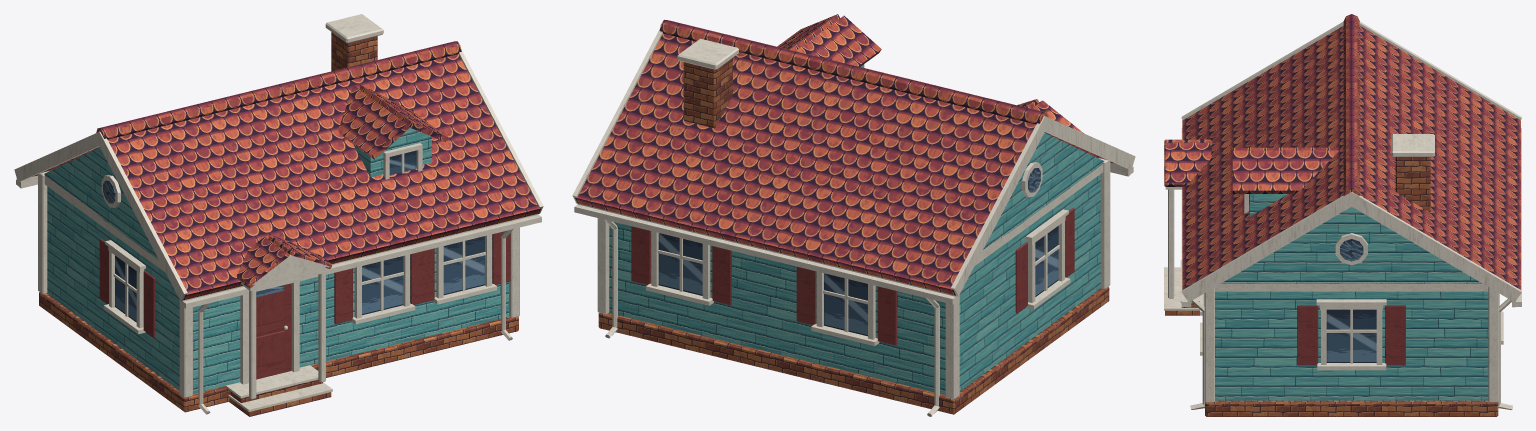
Rendered from house_a.glb.
3 renders of one model, left to right at view 1: azimuth 30°, elevation 25°; view 2: azimuth 150°, elevation 25°; view 3: azimuth 270°, elevation 25°, orthographic. The views are drawn at different scales.
Parts seen in each view (by area): view 1: House; view 2: House; view 3: House.
Part boxes in pixels (bbox=[...]): House: bbox=[14, 14, 543, 416]; House: bbox=[572, 14, 1135, 416]; House: bbox=[1164, 14, 1521, 416].
Bounding box in the file's own units: 8.79 × 5.72 × 7.57.
Materials: 4 (4 with a texture image).
